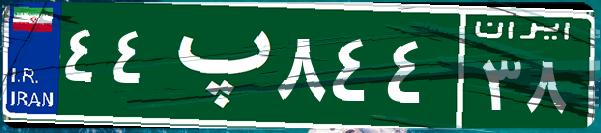3: (475, 38, 525, 113)
4: (385, 28, 445, 110), (330, 28, 385, 110), (57, 26, 110, 107), (110, 28, 158, 105)
8: (273, 28, 330, 110), (525, 38, 570, 115)
پ: (158, 15, 273, 115)
